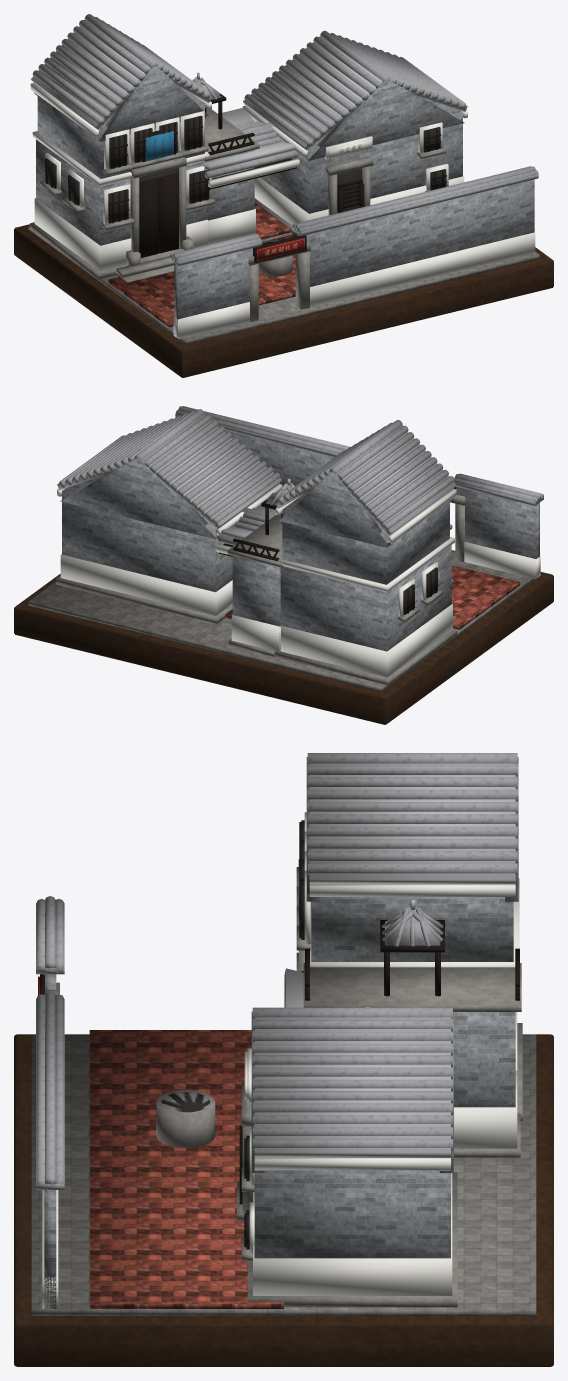
Rendered from liang.glb.
The picture shows the model from 3 angles, top to bottom: view 1: azimuth 30°, elevation 25°; view 2: azimuth 150°, elevation 25°; view 3: azimuth 270°, elevation 25°; orthographic projection. The views are drawn at different scales.
Visible parts, largest first — view 1: Liang; view 2: Liang; view 3: Liang.
Part boxes in pixels (box(x1,y1,x2,y2)): Liang: box(14, 14, 553, 377); Liang: box(14, 406, 553, 724); Liang: box(14, 753, 553, 1366).
Bounding box in the file's own units: 0.7 × 0.42 × 0.55.
Materials: 13 (10 with a texture image).
